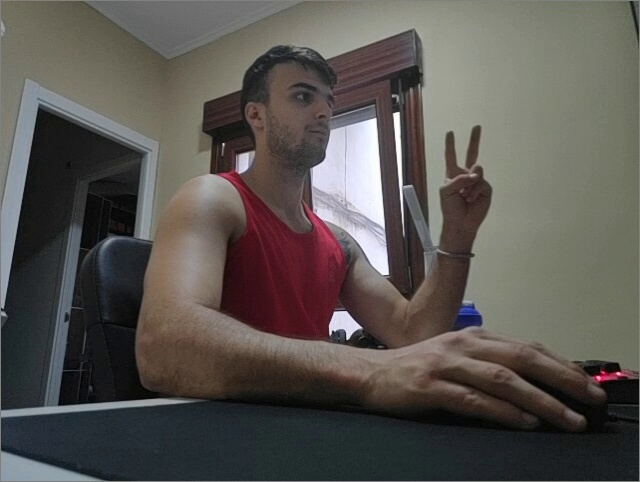Peace: (437, 122, 495, 227)
